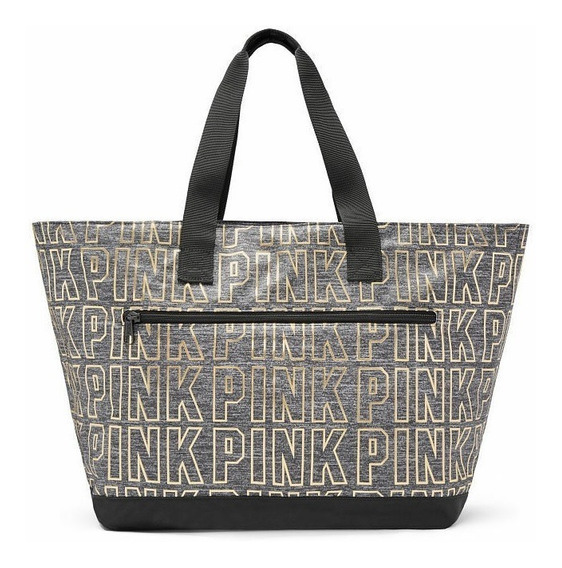cartera: (31, 28, 530, 533)
